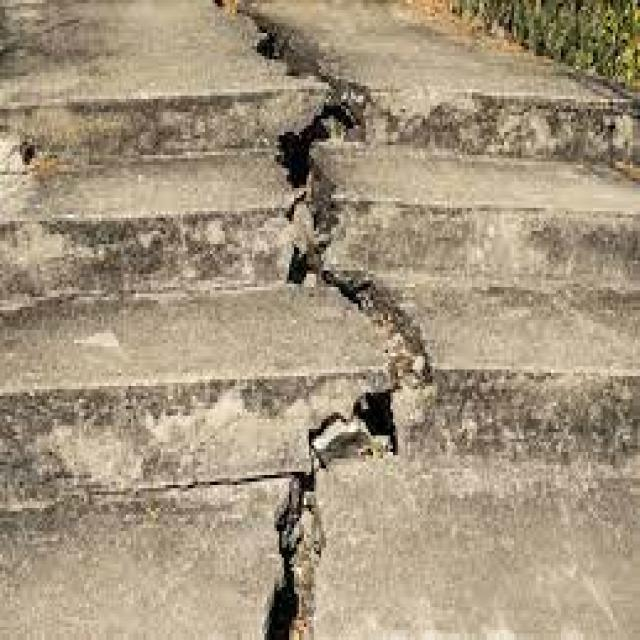Crack: (215, 0, 440, 637)
